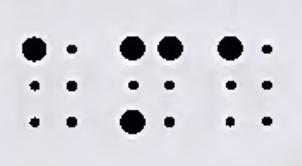a: (20, 36, 80, 129), (219, 37, 274, 129)
m: (119, 36, 181, 135)
